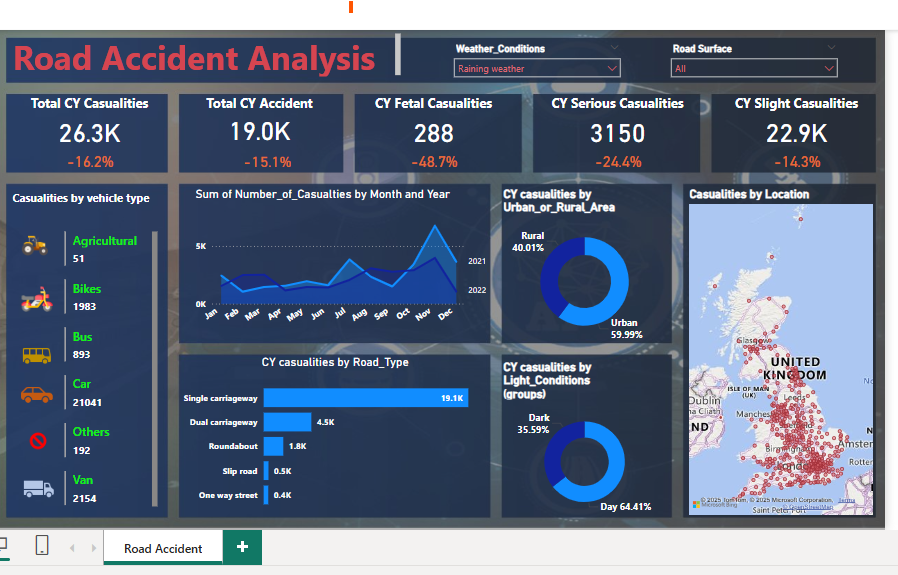

Layout of this report page (visuals, bound fields, positions):
{"tool":"powerbi","page":{"name":"Road Accident","canvas":[1280,720],"ordinal":0},"visuals":[{"type":"group","id":"g1","title":"Group 1","box":[16.8,92.4,231.8,112.5],"z":0},{"type":"card","title":"Total CY Casualities","fields":{"Values":["Data.CY casualities"]},"box":[16.8,92.4,231.8,80.6],"z":0,"group":"g1"},{"type":"card","title":"Total CY Accident","fields":{"Values":["Data.CY Accident_Count"]},"box":[262,92.4,231.8,76.7],"z":0,"group":"g2"},{"type":"card","title":" CY Fetal Casualities","fields":{"Values":["Data.CY casualities"]},"box":[512.3,92.4,231.8,80.6],"z":0,"group":"g3"},{"type":"card","title":" CY Serious Casualities","fields":{"Values":["Data.CY casualities"]},"box":[777.7,92.4,231.8,80.6],"z":0,"group":"g4"},{"type":"card","title":" CY Slight Casualities","fields":{"Values":["Data.CY casualities"]},"box":[1034.8,92.4,231.8,80.6],"z":0,"group":"g5"},{"type":"group","id":"g2","title":"Group 1","box":[262,92.4,231.8,112.5],"z":1000},{"type":"card","fields":{"Values":["Data.YOY Casualities"]},"box":[73.9,173,117.6,31.9],"z":1000,"group":"g1"},{"type":"card","fields":{"Values":["Data.YOY Casualities"]},"box":[569.4,173,117.6,31.9],"z":1000,"group":"g3"},{"type":"card","fields":{"Values":["Data.YOY Casualities"]},"box":[834.8,173,117.6,31.9],"z":1000,"group":"g4"},{"type":"card","fields":{"Values":["Data.YOY Casualities"]},"box":[1091.9,173,117.6,31.9],"z":1000,"group":"g5"},{"type":"card","fields":{"Values":["Data.YOY Accident"]},"box":[329.4,174.6,117.6,30.4],"z":1000,"group":"g2"},{"type":"group","id":"g3","title":"Group 1","box":[512.3,92.4,231.8,112.5],"z":2000},{"type":"group","id":"g4","title":"Group 1","box":[777.7,92.4,231.8,112.5],"z":3000},{"type":"group","id":"g5","title":"Group 1","box":[1034.8,92.4,231.8,112.5],"z":4000},{"type":"textbox","box":[16.8,0,569.4,72.2],"z":5000},{"type":"multiRowCard","fields":{"Values":["Data.Vehicle_Type (groups)","Data.CY casualities"]},"box":[92.4,285.6,144.5,418.3],"z":6000},{"type":"image","box":[16.8,441.8,80.6,53.8],"z":7000},{"type":"image","box":[16.8,359.5,80.6,55.4],"z":8000},{"type":"image","box":[16.8,495.5,80.6,60.5],"z":9000},{"type":"image","box":[20.2,571.1,79,40.3],"z":10000},{"type":"image","box":[11.8,285.6,85.7,50.4],"z":11000},{"type":"image","box":[21.8,631.6,77.3,57.1],"z":12000},{"type":"textbox","box":[16.8,226.8,220.1,47],"z":13000},{"type":"areaChart","fields":{"Category":["Calender.Month"],"Y":["Sum(Data.Number_of_Casualties)"],"Series":["Calender.Date.Variation.Date Hierarchy.Year"]},"box":[280.5,226.8,431.7,215],"z":14000},{"type":"donutChart","fields":{"Y":["Data.CY casualities"],"Category":["Data.Urban_or_Rural_Area"]},"box":[724,226.8,243.6,230.1],"z":15000},{"type":"donutChart","fields":{"Y":["Data.CY casualities"],"Category":["Data.Light_Conditions (groups)"]},"box":[724,475.4,243.6,230.1],"z":16000},{"type":"barChart","fields":{"Category":["Data.Road_Type"],"Y":["Data.CY casualities"]},"box":[262,468.7,450.2,235.2],"z":17000},{"type":"map","title":"Casualities by  Location","fields":{"X":["Data.Longitude"],"Y":["Data.Latitude"],"Category":["Data.Local_Authority_(District)"]},"box":[992.8,226.8,273.8,477.1],"z":18000},{"type":"slicer","fields":{"Values":["Data.Weather_Conditions (groups)"]},"box":[648.4,13.4,260.4,58.8],"z":19000},{"type":"slicer","fields":{"Values":["Data.Road_Surface_Conditions (groups)"]},"box":[960.8,13.4,260.4,58.8],"z":20000}]}

Visuals, with their boxes on the page's 1280x720 design canvas (x1, y1, x2, y2). These are canvas units, not pixel positions in the 898x575 screenshot, which may show the page scaled, cropped or inside an application window:
"Group 1" group: BBox(17, 92, 249, 205)
"Total CY Casualities" card: BBox(17, 92, 249, 173)
"Total CY Accident" card: BBox(262, 92, 494, 169)
" CY Fetal Casualities" card: BBox(512, 92, 744, 173)
" CY Serious Casualities" card: BBox(778, 92, 1010, 173)
" CY Slight Casualities" card: BBox(1035, 92, 1267, 173)
"Group 1" group: BBox(262, 92, 494, 205)
card - Data.YOY Casualities: BBox(74, 173, 192, 205)
card - Data.YOY Casualities: BBox(569, 173, 687, 205)
card - Data.YOY Casualities: BBox(835, 173, 952, 205)
card - Data.YOY Casualities: BBox(1092, 173, 1210, 205)
card - Data.YOY Accident: BBox(329, 175, 447, 205)
"Group 1" group: BBox(512, 92, 744, 205)
"Group 1" group: BBox(778, 92, 1010, 205)
"Group 1" group: BBox(1035, 92, 1267, 205)
textbox: BBox(17, 0, 586, 72)
multiRowCard - Data.Vehicle_Type (groups) x Data.CY casualities: BBox(92, 286, 237, 704)
image: BBox(17, 442, 97, 496)
image: BBox(17, 360, 97, 415)
image: BBox(17, 496, 97, 556)
image: BBox(20, 571, 99, 611)
image: BBox(12, 286, 98, 336)
image: BBox(22, 632, 99, 689)
textbox: BBox(17, 227, 237, 274)
areaChart - Calender.Month x Sum(Data.Number_of_Casualties): BBox(280, 227, 712, 442)
donutChart - Data.CY casualities x Data.Urban_or_Rural_Area: BBox(724, 227, 968, 457)
donutChart - Data.CY casualities x Data.Light_Conditions (groups): BBox(724, 475, 968, 706)
barChart - Data.Road_Type x Data.CY casualities: BBox(262, 469, 712, 704)
"Casualities by  Location" map: BBox(993, 227, 1267, 704)
slicer - Data.Weather_Conditions (groups): BBox(648, 13, 909, 72)
slicer - Data.Road_Surface_Conditions (groups): BBox(961, 13, 1221, 72)
